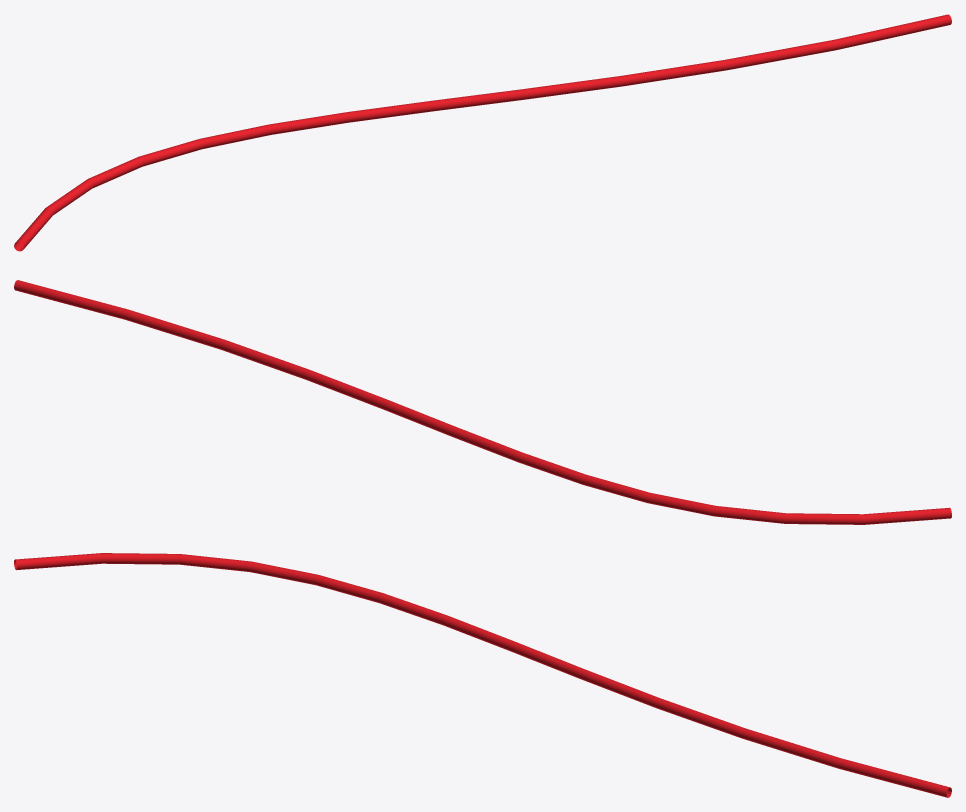
3 views of the same model, one above another, from view 1: azimuth 30°, elevation 25°; view 2: azimuth 150°, elevation 25°; view 3: azimuth 330°, elevation 25° (orthographic).
Visible parts, largest first — view 1: hairStrand; view 2: hairStrand; view 3: hairStrand.
Boxes of the visible parts, bbox=[...] form: hairStrand: bbox=[14, 14, 951, 251]; hairStrand: bbox=[14, 280, 951, 524]; hairStrand: bbox=[14, 553, 951, 797].
Size of the model in its own units: 201 by 2 by 24.22.
